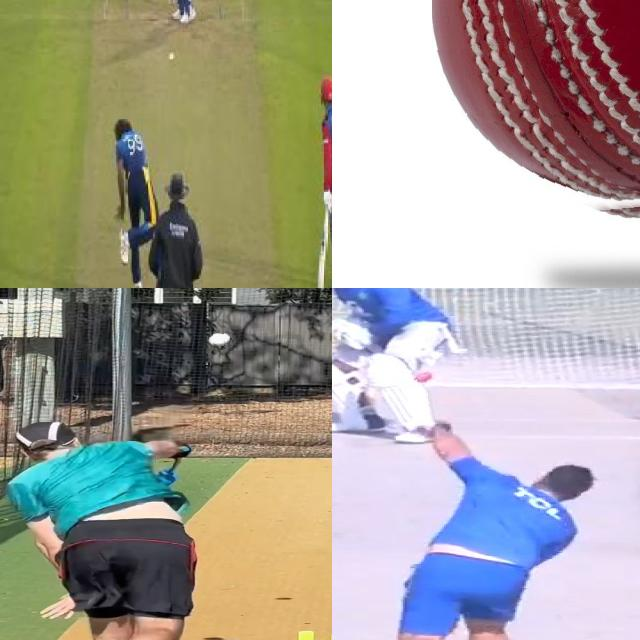Cricket ball: (432, 0, 640, 225), (410, 370, 436, 386), (207, 333, 232, 348), (167, 51, 177, 63)
